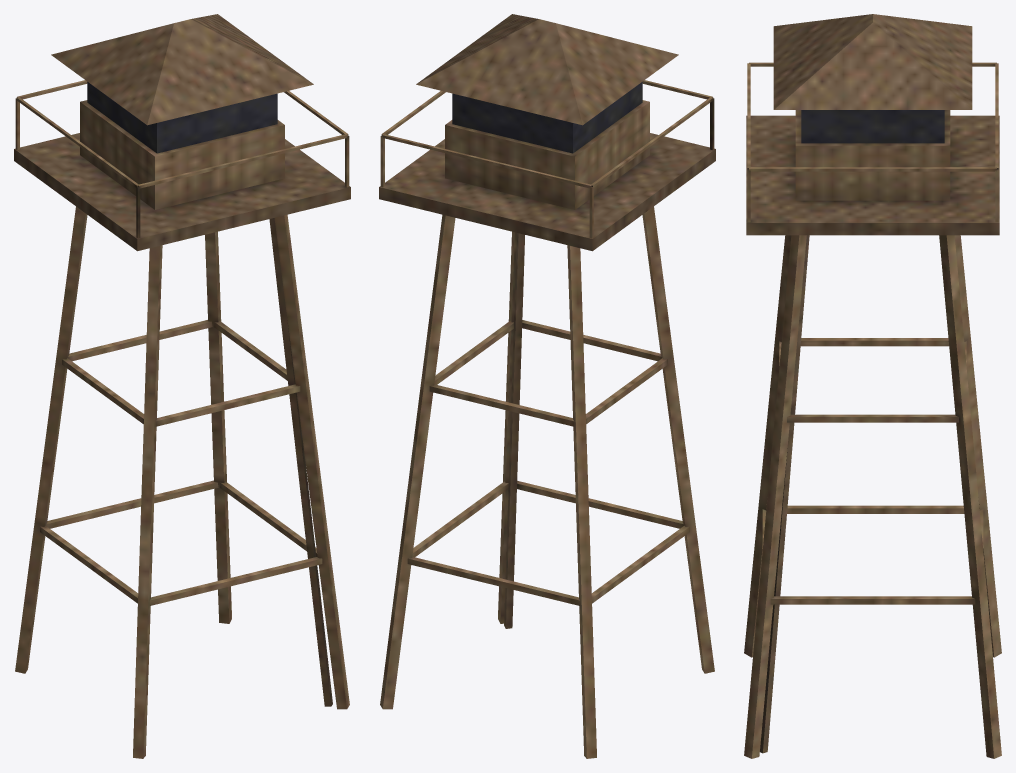
File: SM_RangerTower.fbx
3 views of the same model, side by side, from view 1: azimuth 30°, elevation 25°; view 2: azimuth 150°, elevation 25°; view 3: azimuth 270°, elevation 25° (orthographic). The views are drawn at different scales.
Parts seen in each view (by area): view 1: SM_RangerTower; view 2: SM_RangerTower; view 3: SM_RangerTower.
Part boxes in pixels (left/top/right/bottom): SM_RangerTower: left=14, top=14, right=350, bottom=758; SM_RangerTower: left=379, top=14, right=715, bottom=758; SM_RangerTower: left=744, top=14, right=1001, bottom=758.
Size of what is drawn, in the model's own units: 468 by 1376 by 468.
Materials: 1 (1 with a texture image).
